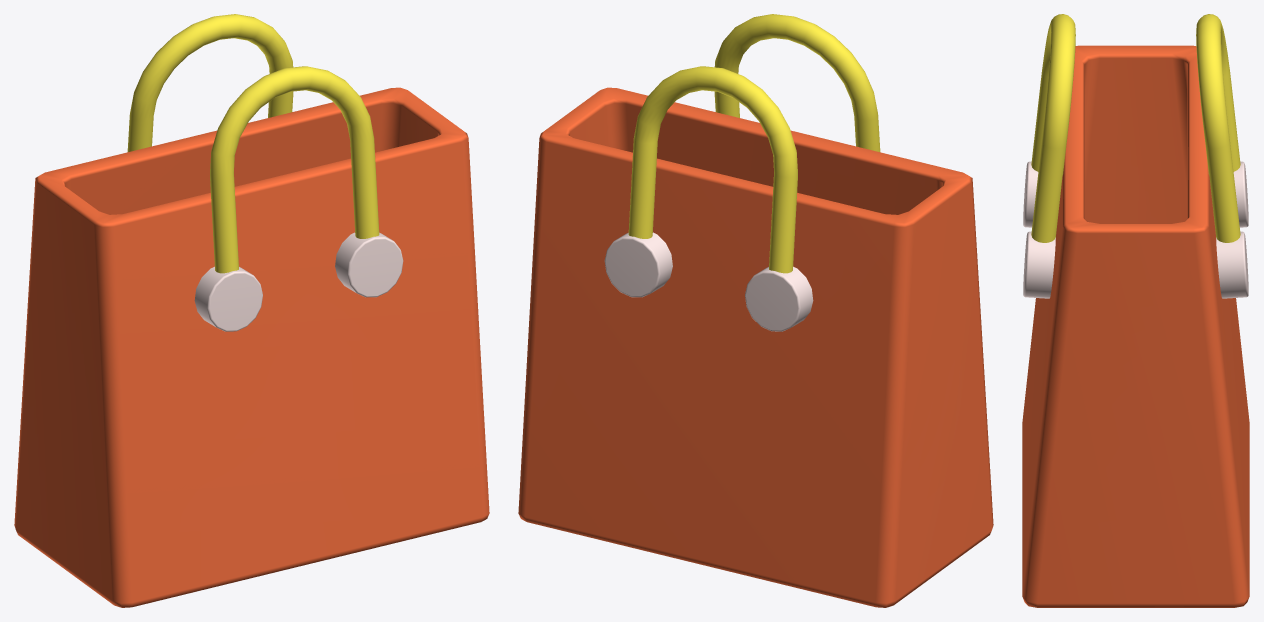
The model's file is Public_10_Package_5.glb.
3 views of the same model, side by side, from view 1: azimuth 30°, elevation 25°; view 2: azimuth 150°, elevation 25°; view 3: azimuth 270°, elevation 25° (orthographic). The views are drawn at different scales.
Visible parts, largest first — view 1: Public_10_Package_5; view 2: Public_10_Package_5; view 3: Public_10_Package_5.
Part boxes in pixels (box(x1,y1,x2,y2)): Public_10_Package_5: box(14, 14, 489, 607); Public_10_Package_5: box(518, 14, 993, 607); Public_10_Package_5: box(1022, 14, 1249, 607).
Bounding box in the file's own units: 2.19 × 2.69 × 1.12.
1 material, 1 textured.
